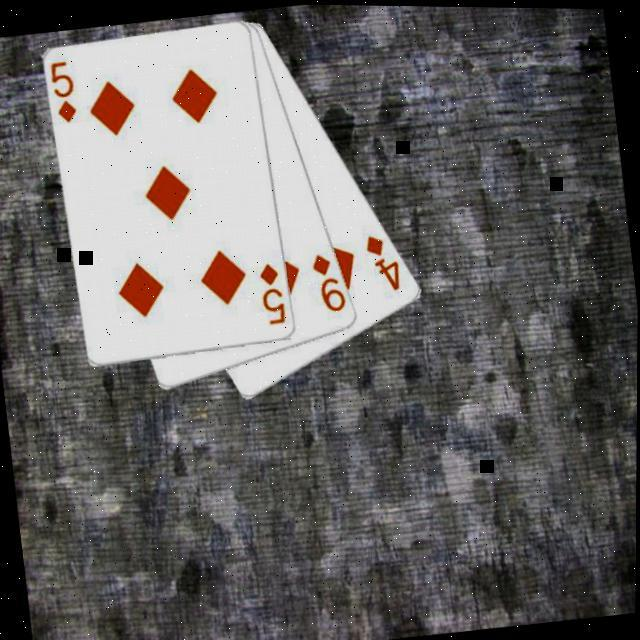4D: (360, 227, 404, 294)
5D: (254, 258, 290, 326), (46, 56, 80, 126)
9D: (307, 247, 349, 316)
